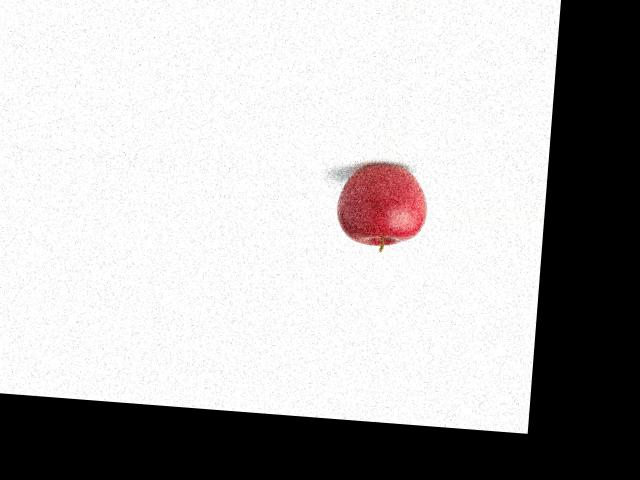apple: (331, 158, 431, 256)
